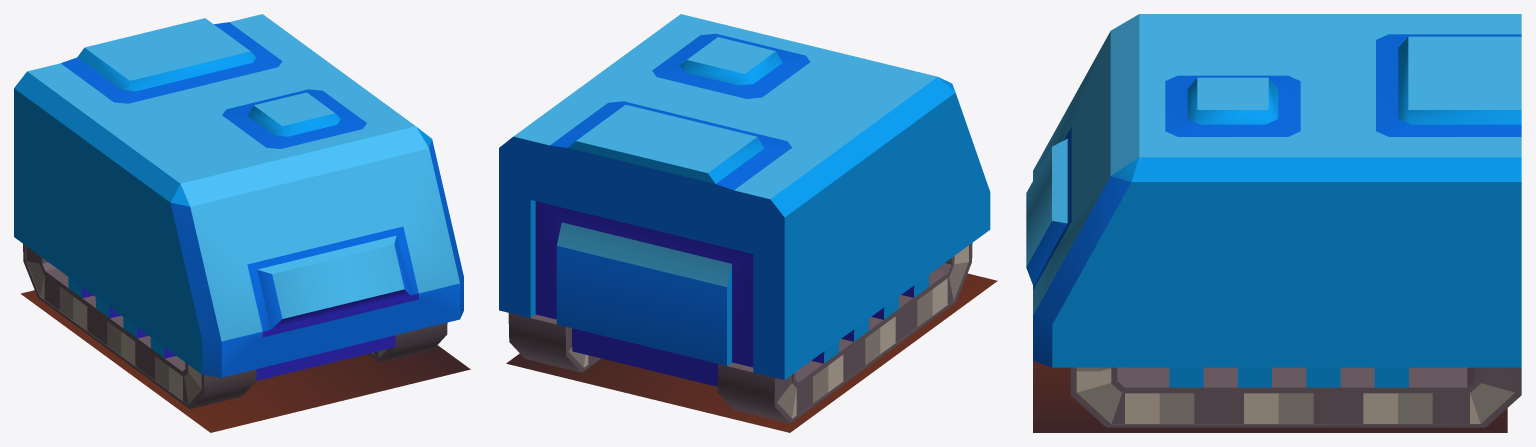
Rendered from APCMesh.BlueMoon.glb.
3 views of the same model, side by side, from view 1: azimuth 30°, elevation 25°; view 2: azimuth 150°, elevation 25°; view 3: azimuth 270°, elevation 25° (orthographic). The views are drawn at different scales.
Parts seen in each view (by area): view 1: APCMesh.BlueMoon; view 2: APCMesh.BlueMoon; view 3: APCMesh.BlueMoon.
Boxes of the visible parts, x1,y1,x2,y2 form: APCMesh.BlueMoon: (14,14,470,432); APCMesh.BlueMoon: (499,14,997,432); APCMesh.BlueMoon: (1026,14,1521,432).
Size of the model in its own units: 1.51 by 1.25 by 1.98.
Materials: 1 (1 with a texture image).
